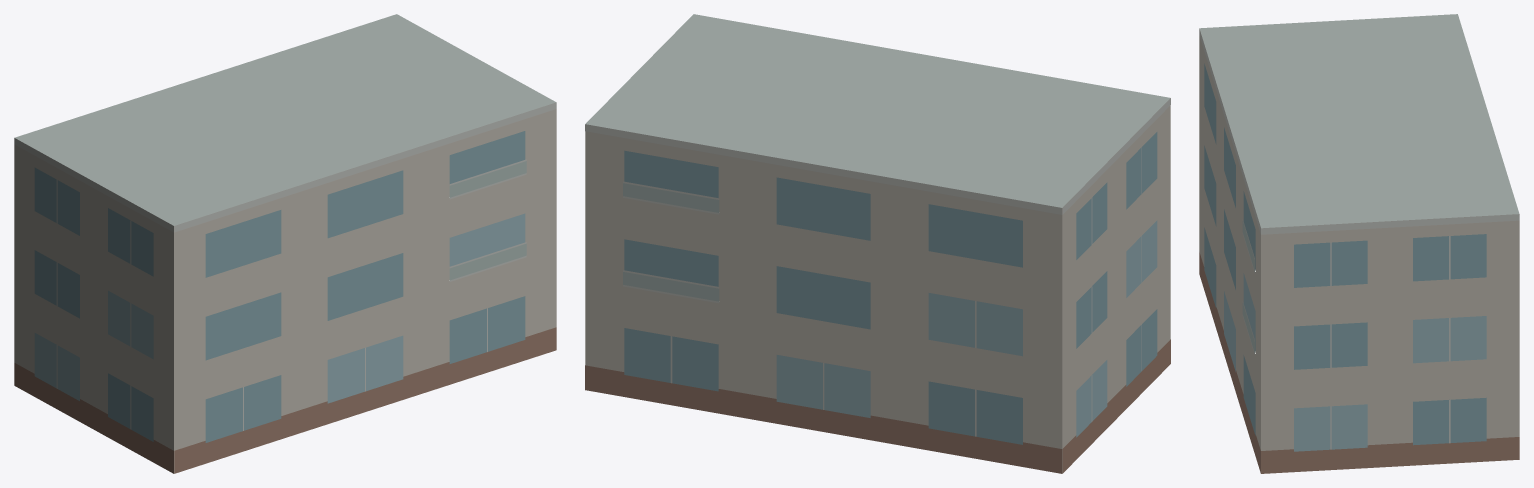
Rendered from survey-upis-32807601.glb.
3 renders of one model, left to right at view 1: azimuth 30°, elevation 25°; view 2: azimuth 150°, elevation 25°; view 3: azimuth 270°, elevation 25°, orthographic. The views are drawn at different scales.
Visible parts, largest first — view 1: survey-upis-32807601.tmp; view 2: survey-upis-32807601.tmp; view 3: survey-upis-32807601.tmp.
Part boxes in pixels (box(x1,y1,x2,y2)): survey-upis-32807601.tmp: box(14, 14, 556, 473); survey-upis-32807601.tmp: box(585, 14, 1170, 473); survey-upis-32807601.tmp: box(1199, 14, 1519, 473).
Bounding box in the file's own units: 17.12 × 9.15 × 10.82.
